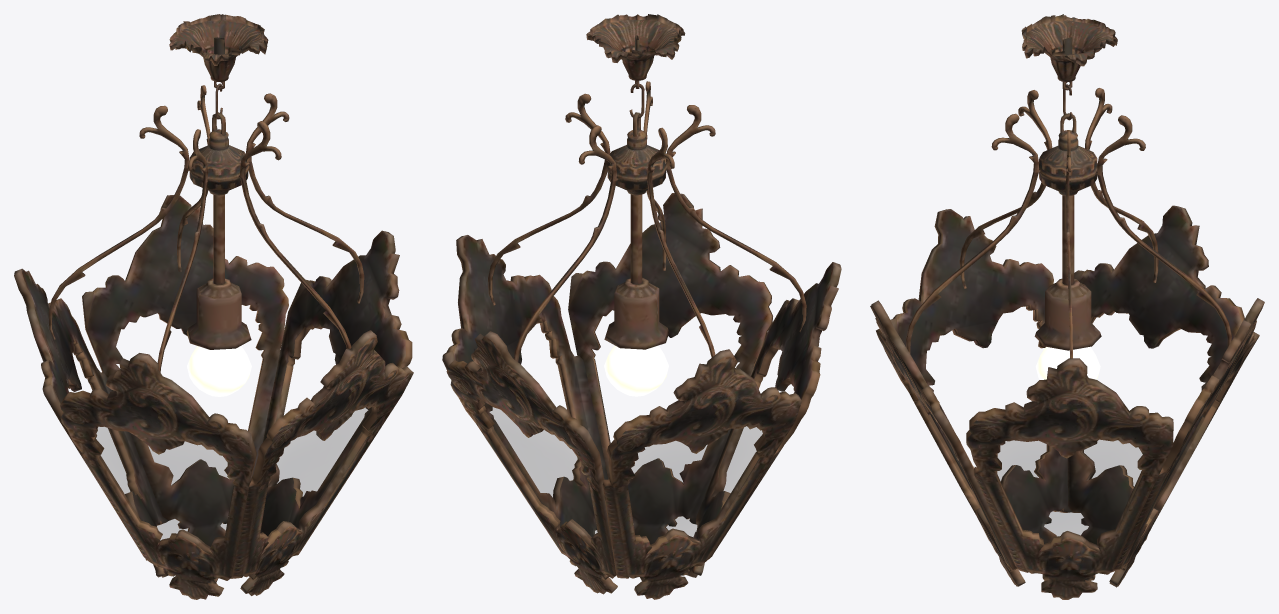
File: lantern_chandelier_01.glb
The picture shows the model from 3 angles, left to right: view 1: azimuth 30°, elevation 25°; view 2: azimuth 150°, elevation 25°; view 3: azimuth 270°, elevation 25°; orthographic projection.
Parts seen in each view (by area): view 1: lantern_chandelier_01; view 2: lantern_chandelier_01; view 3: lantern_chandelier_01.
Boxes of the visible parts, x1=… form: lantern_chandelier_01: x1=14, y1=14, x2=413, y2=599; lantern_chandelier_01: x1=442, y1=14, x2=841, y2=599; lantern_chandelier_01: x1=870, y1=14, x2=1264, y2=599.
Bounding box in the file's own units: 0.5792 × 0.8776 × 0.5746.
3 materials, 2 textured.
